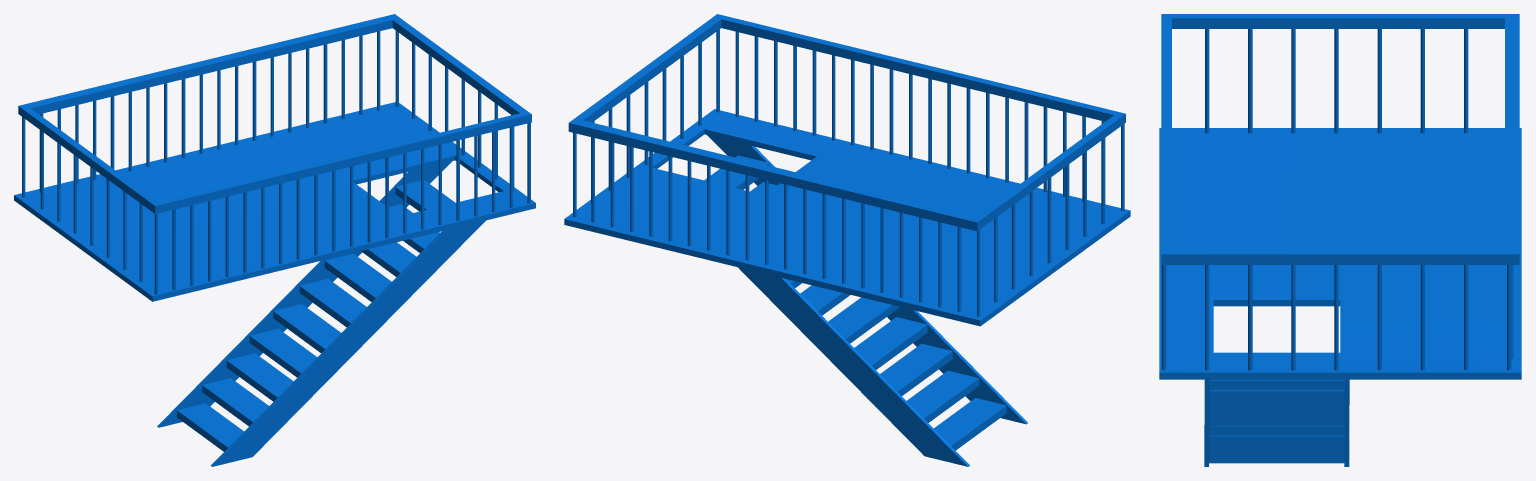
Rendered from StairsOutsideBuilding.fbx.
The picture shows the model from 3 angles, left to right: view 1: azimuth 30°, elevation 25°; view 2: azimuth 150°, elevation 25°; view 3: azimuth 270°, elevation 25°; orthographic projection. The views are drawn at different scales.
Parts seen in each view (by area): view 1: pCylinder60; view 2: pCylinder60; view 3: pCylinder60.
Boxes of the visible parts, box(x1,y1,x2,y2) form: pCylinder60: box(14, 14, 535, 466); pCylinder60: box(564, 14, 1130, 466); pCylinder60: box(1159, 14, 1521, 466).
Bounding box in the file's own units: 6.77 × 4.91 × 4.24.
